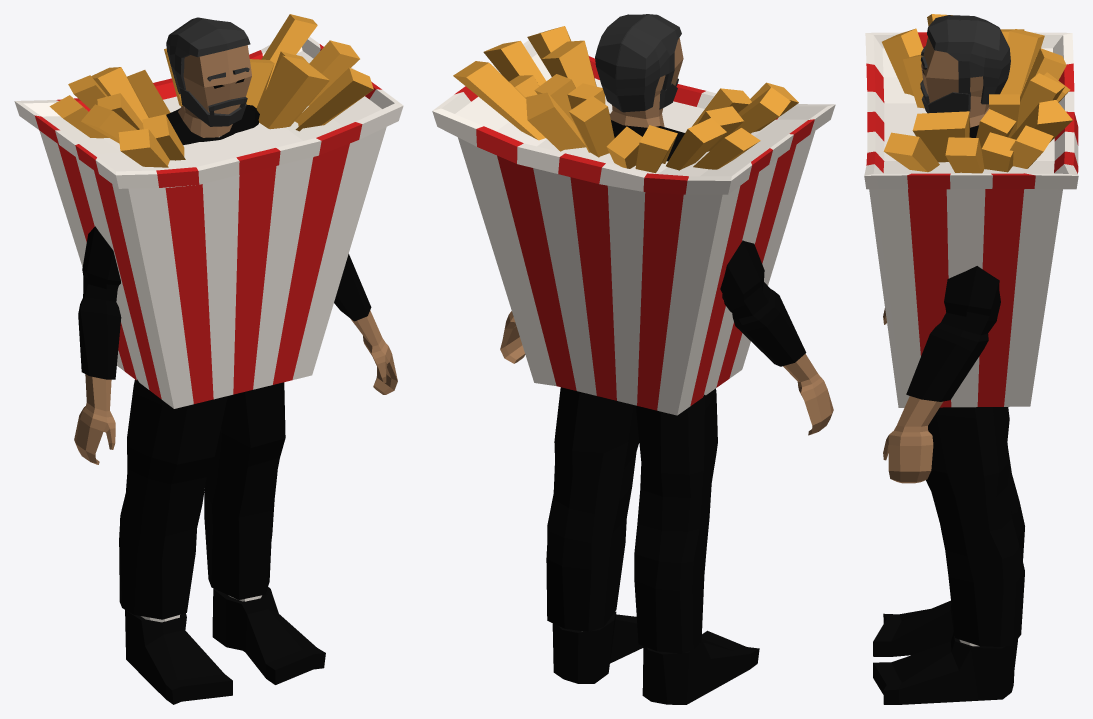
File: LPC_Fries_(srasmussen).fbx
The picture shows the model from 3 angles, left to right: view 1: azimuth 30°, elevation 25°; view 2: azimuth 150°, elevation 25°; view 3: azimuth 270°, elevation 25°; orthographic projection. The views are drawn at different scales.
Visible parts, largest first — view 1: LPC_Fries; view 2: LPC_Fries; view 3: LPC_Fries.
Boxes of the visible parts, box(x1,y1,x2,y2) form: LPC_Fries: box(14, 14, 403, 704); LPC_Fries: box(432, 14, 835, 704); LPC_Fries: box(864, 14, 1078, 704).
Size of the model in its own units: 235 by 458 by 137.
1 material, 1 textured.
